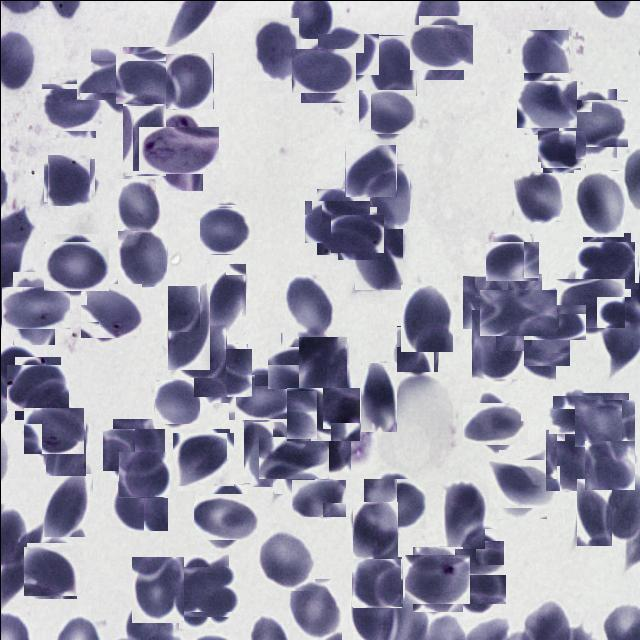red blood cell: (290, 382, 354, 446), (172, 560, 234, 622), (487, 281, 549, 343), (254, 529, 314, 590), (167, 284, 210, 369), (471, 310, 523, 380), (559, 272, 619, 332), (400, 284, 452, 351), (298, 336, 346, 408), (131, 556, 183, 622), (563, 93, 621, 152), (493, 454, 551, 513), (288, 577, 342, 640), (108, 474, 166, 532), (4, 278, 62, 336), (174, 430, 232, 488), (82, 281, 140, 339), (573, 169, 623, 236), (118, 50, 176, 107), (46, 237, 104, 294), (408, 550, 466, 607), (366, 474, 422, 532), (354, 222, 402, 289), (545, 427, 596, 490), (282, 273, 332, 336), (578, 236, 634, 292), (198, 488, 254, 544), (265, 430, 321, 486), (122, 104, 166, 175), (295, 42, 350, 98), (274, 339, 329, 395), (43, 473, 91, 536), (520, 29, 568, 92), (44, 80, 99, 134), (232, 369, 286, 424), (413, 20, 468, 74), (439, 482, 484, 548), (26, 403, 80, 458), (468, 396, 522, 450), (520, 76, 574, 130), (310, 194, 364, 248), (196, 346, 250, 400), (10, 360, 64, 414), (578, 396, 632, 450), (523, 294, 577, 348), (252, 17, 298, 80), (206, 262, 246, 334), (369, 34, 416, 95), (82, 53, 136, 106), (24, 544, 78, 596), (106, 424, 160, 476), (446, 556, 498, 610), (321, 27, 373, 80), (509, 320, 562, 372), (117, 230, 166, 286), (165, 52, 213, 108), (344, 145, 396, 196), (177, 323, 226, 377), (243, 422, 283, 488), (362, 85, 412, 137), (369, 163, 409, 228), (115, 178, 161, 234), (352, 501, 397, 558), (454, 528, 504, 578), (352, 556, 402, 606), (360, 362, 396, 431), (584, 440, 634, 489), (462, 275, 508, 328), (308, 414, 350, 472), (513, 172, 562, 221), (116, 452, 168, 498), (576, 478, 611, 545), (45, 419, 86, 475), (200, 206, 248, 253), (45, 156, 92, 203), (154, 378, 200, 424), (552, 392, 598, 438), (488, 238, 534, 284), (291, 478, 346, 516), (334, 210, 379, 256), (396, 325, 438, 371), (540, 127, 582, 170)
ring: (147, 118, 210, 182)
